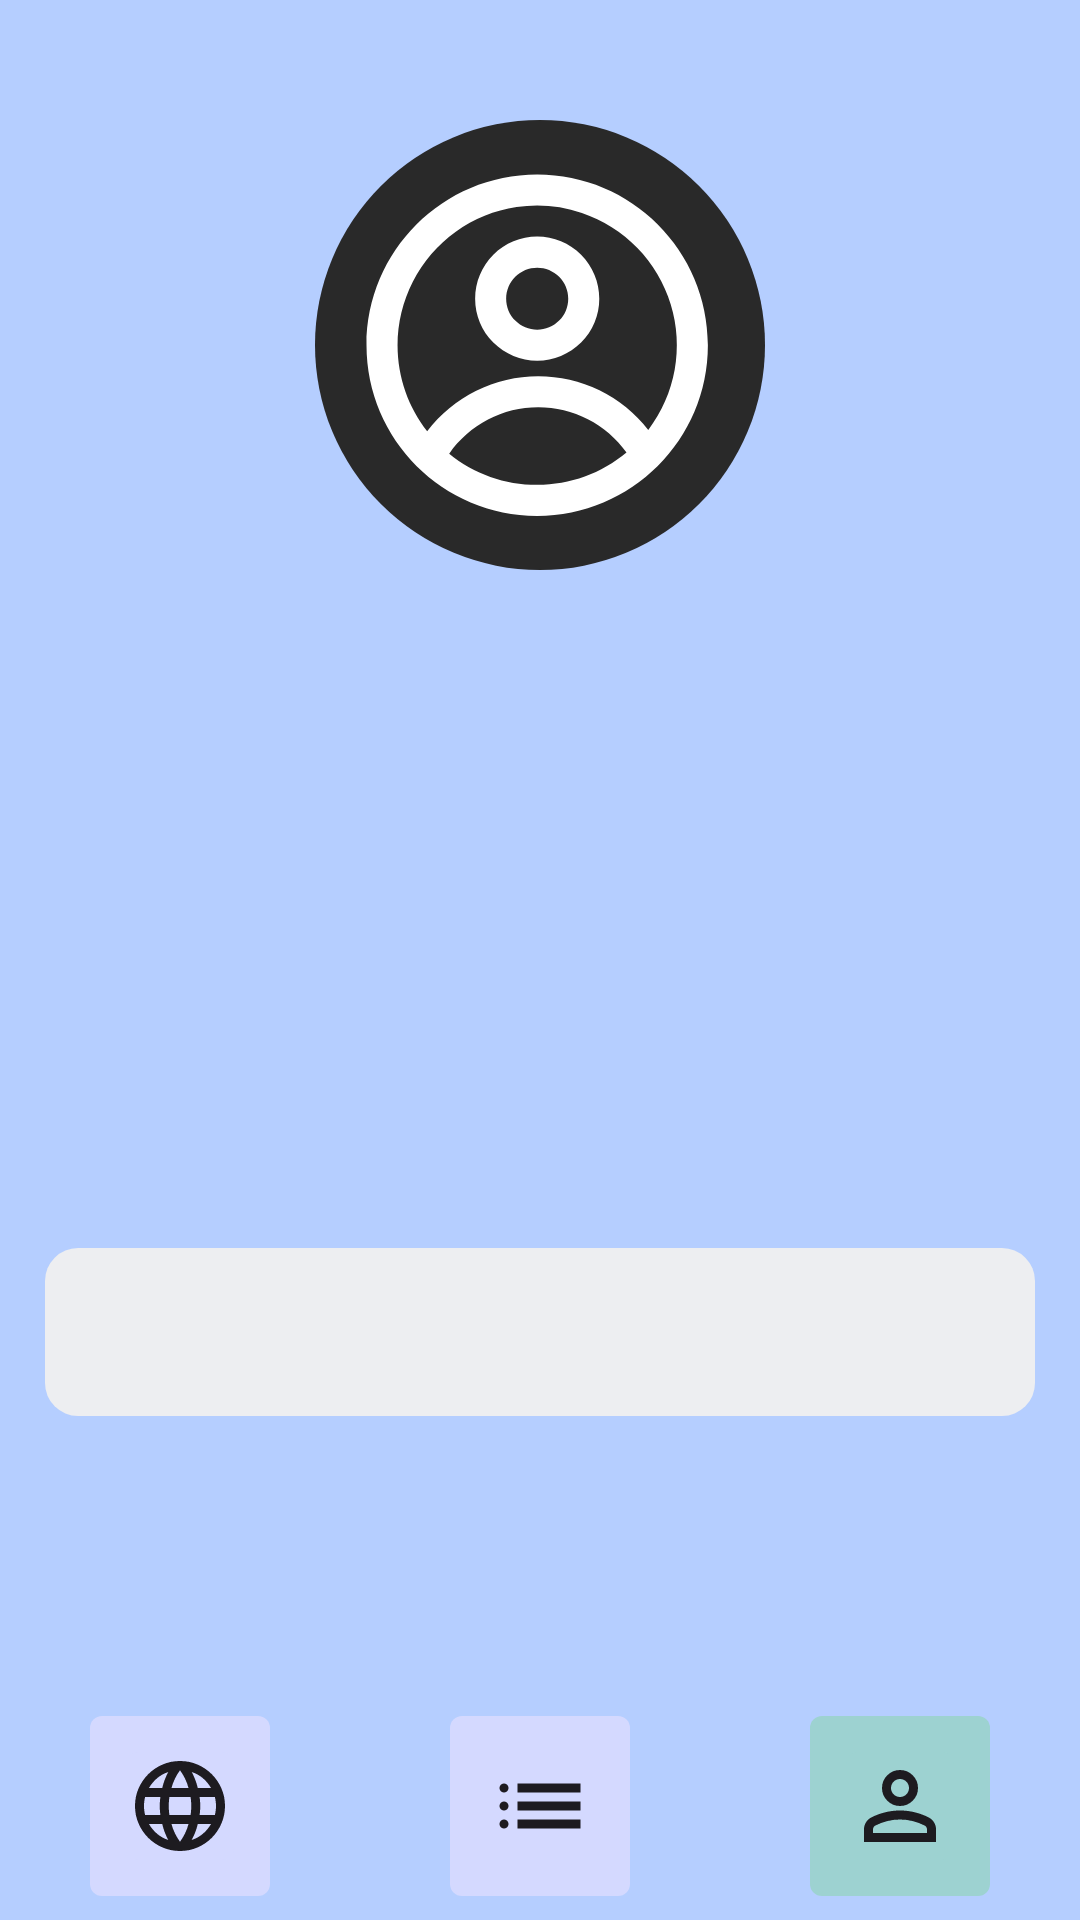

Icons on this 1080px×1920px Android screen, each with its box as box(x1, y1, x2, y2):
profile chosen: box(810, 1716, 990, 1896)
